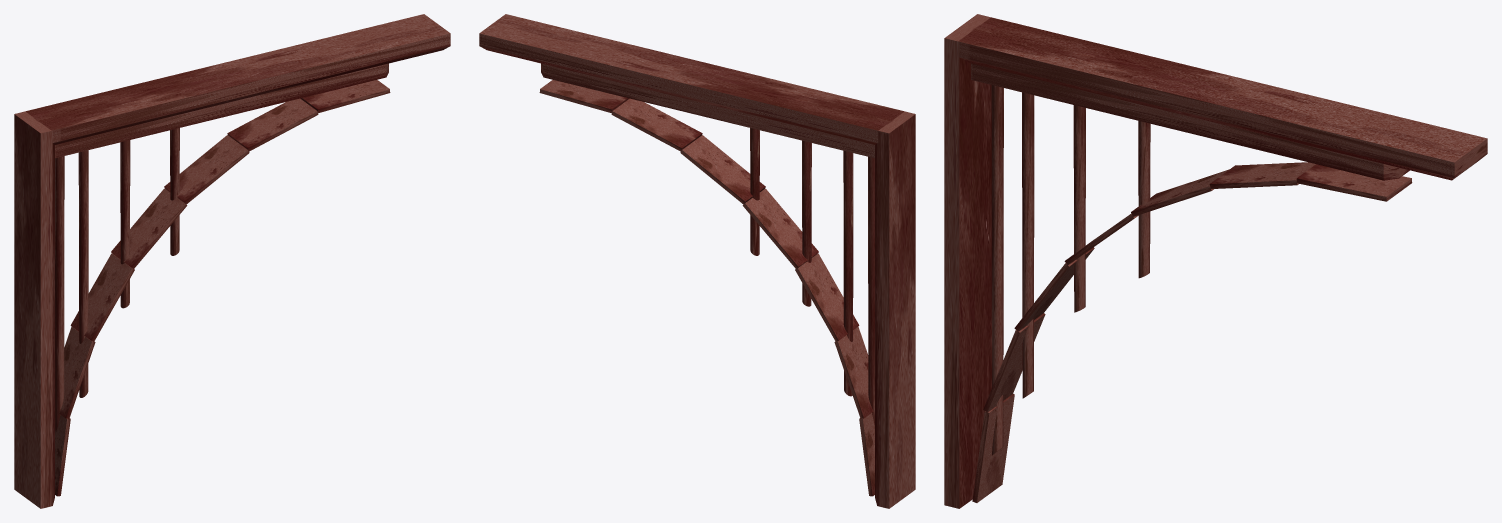
Rendered from halfArch.fbx.
3 views of the same model, side by side, from view 1: azimuth 30°, elevation 25°; view 2: azimuth 150°, elevation 25°; view 3: azimuth 330°, elevation 25° (orthographic). The views are drawn at different scales.
Parts seen in each view (by area): view 1: Cube.038; view 2: Cube.038; view 3: Cube.038.
Part boxes in pixels (bbox=[...]): Cube.038: bbox=[14, 14, 450, 508]; Cube.038: bbox=[479, 14, 915, 508]; Cube.038: bbox=[944, 14, 1487, 508].
Size of the model in its own units: 605 by 529 by 67.81.
Materials: 1 (1 with a texture image).
